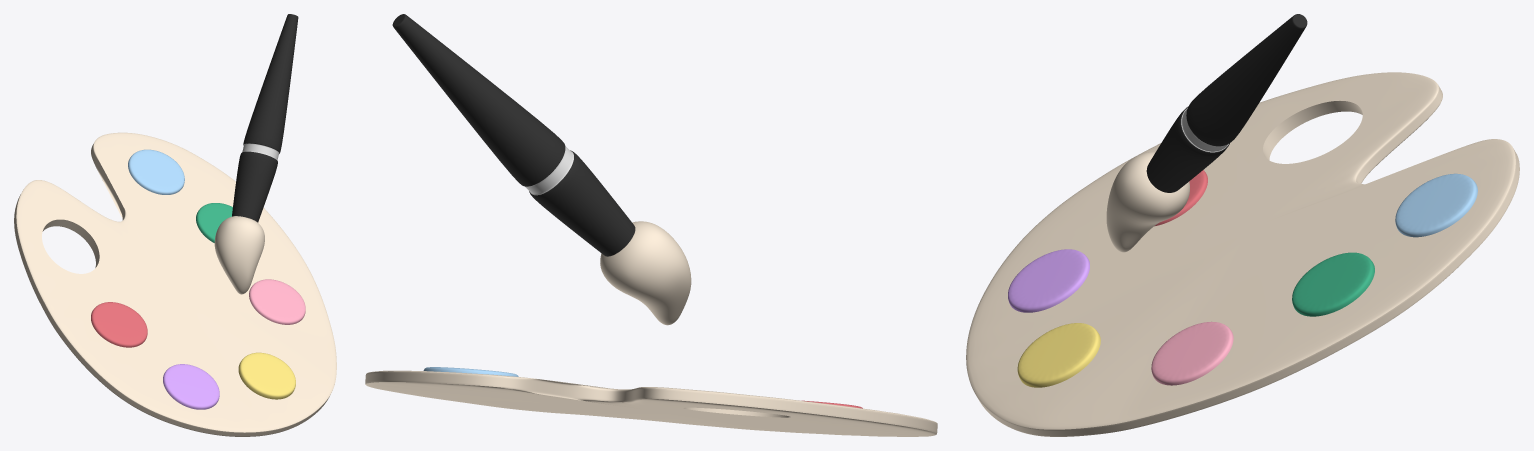
Rendered from color palette.glb.
3 renders of one model, left to right at view 1: azimuth 30°, elevation 25°; view 2: azimuth 150°, elevation 25°; view 3: azimuth 270°, elevation 25°, orthographic. The views are drawn at different scales.
Parts seen in each view (by area): view 1: palette, colors, brush; view 2: brush, palette, colors; view 3: palette, colors, brush.
Boxes of the visible parts, box(x1,y1,x2,y2) form: palette: box(14, 132, 336, 436); colors: box(91, 149, 305, 409); brush: box(214, 14, 298, 294); brush: box(392, 14, 691, 325); palette: box(365, 370, 937, 436); colors: box(423, 367, 862, 408); palette: box(966, 72, 1519, 436); colors: box(1008, 170, 1477, 387); brush: box(1106, 14, 1307, 252).
Bounding box in the file's own units: 6.71 × 7.08 × 7.63.
